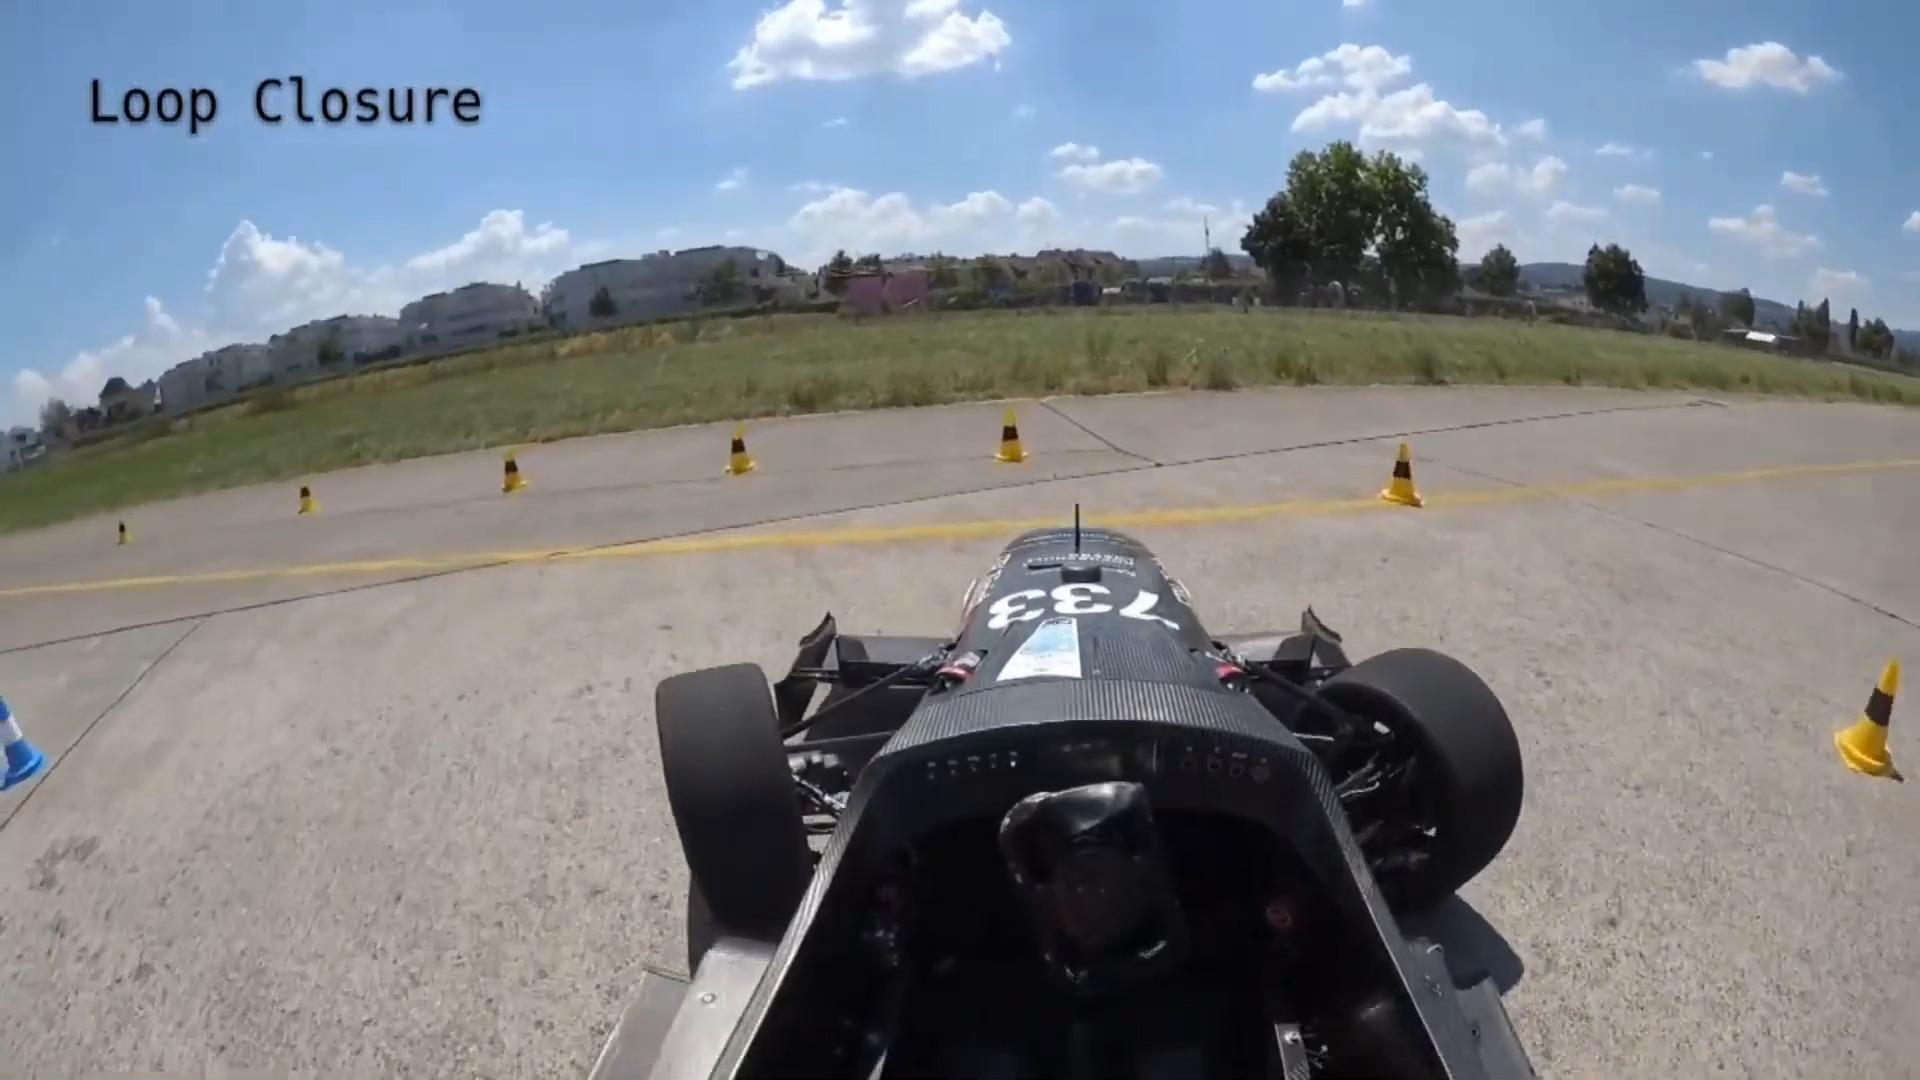blue_cone: (0, 687, 47, 794)
yellow_cone: (1828, 655, 1915, 782), (1379, 439, 1427, 510), (992, 407, 1031, 465), (724, 429, 758, 477), (498, 450, 530, 493), (291, 479, 322, 516)
